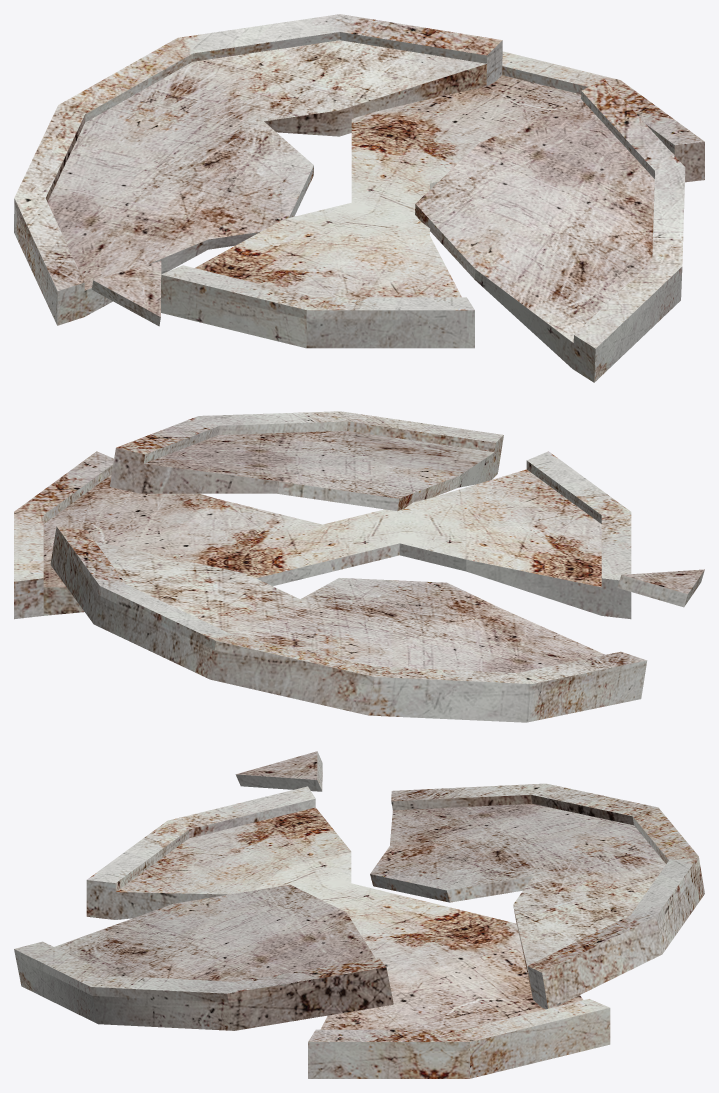
Rendered from BrokenPlate3.fbx.
3 views of the same model, one above another, from view 1: azimuth 30°, elevation 25°; view 2: azimuth 150°, elevation 25°; view 3: azimuth 270°, elevation 25° (orthographic). The views are drawn at different scales.
Visible parts, largest first — view 1: BrokenPlate3; view 2: BrokenPlate3; view 3: BrokenPlate3.
Part boxes in pixels (<box>): BrokenPlate3: <box>14,14,704,382</box>; BrokenPlate3: <box>14,411,704,722</box>; BrokenPlate3: <box>14,751,704,1078</box>.
Bounding box in the file's own units: 8.3 × 1.56 × 8.5.
